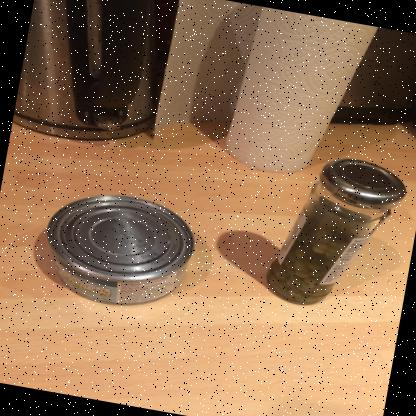Food Can: (46, 195, 194, 305)
Glass jar: (266, 158, 406, 305)
Metal lid: (319, 158, 406, 209)
Tissues: (153, 0, 378, 173)
